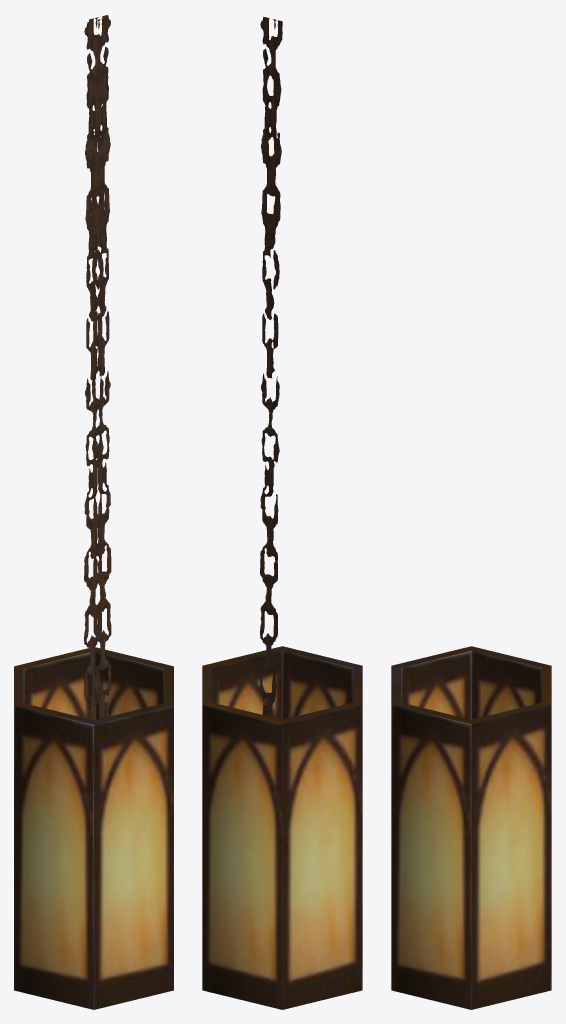
Rendered from altar_lantern.FBX.
3 views of the same model, side by side, from view 1: azimuth 30°, elevation 25°; view 2: azimuth 150°, elevation 25°; view 3: azimuth 270°, elevation 25° (orthographic).
Parts seen in each view (by area): view 1: altar_lantern; view 2: altar_lantern; view 3: altar_lantern.
Part boxes in pixels (left/top/right/bottom): altar_lantern: left=14, top=15, right=173, bottom=1009; altar_lantern: left=202, top=16, right=362, bottom=1009; altar_lantern: left=391, top=646, right=551, bottom=1009.
Size of the model in its own units: 31.38 by 178 by 27.18.
